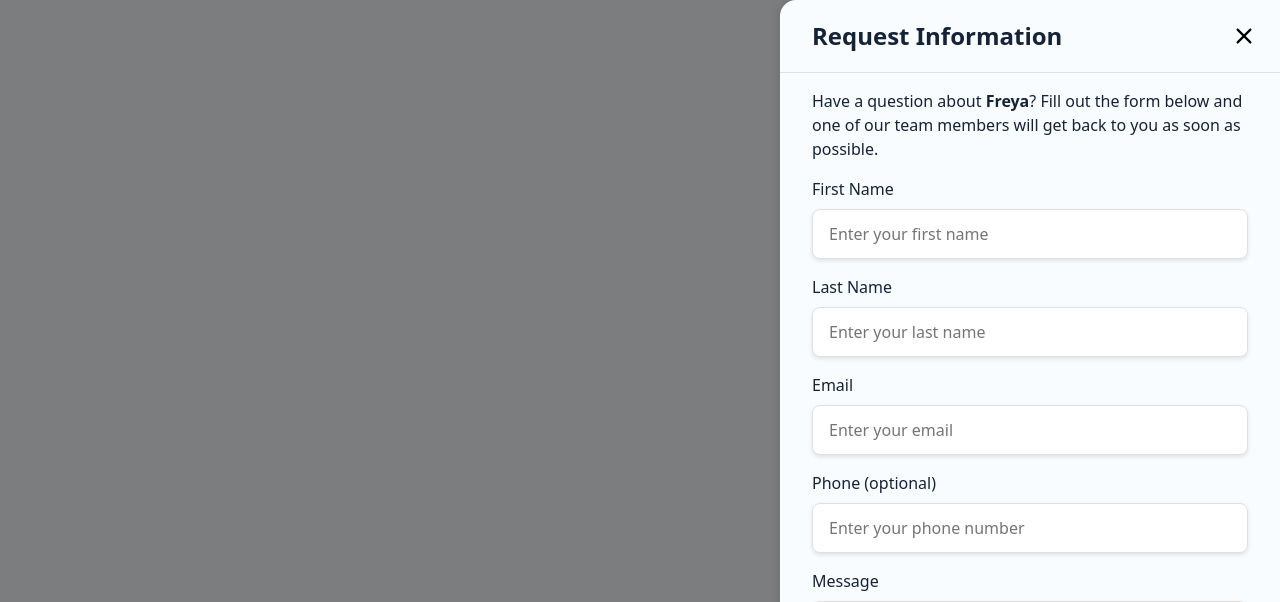
Test: RequestInfoDrawer.vue › masks the phone input while typing
The image size is (1280, 602).
In the field labelled "Phone (optional)": (1030,528) [812,503,1248,553], type "3235551212"
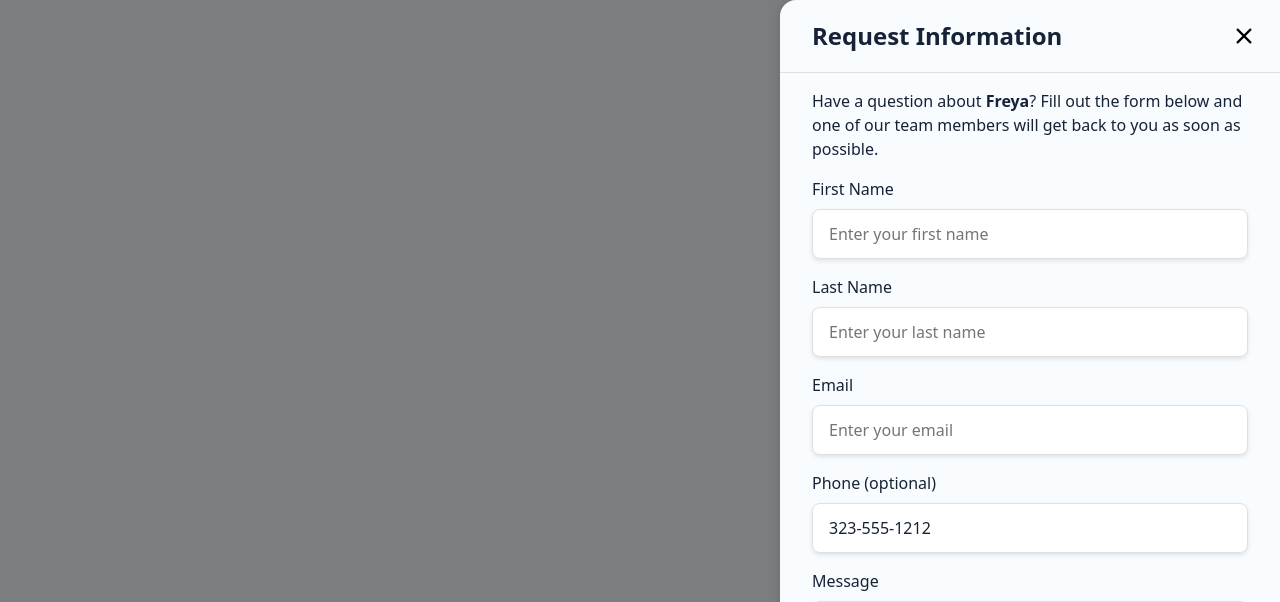
Expected: the field labelled "Phone (optional)" holds "323-555-1212", [812,503,1248,553]
